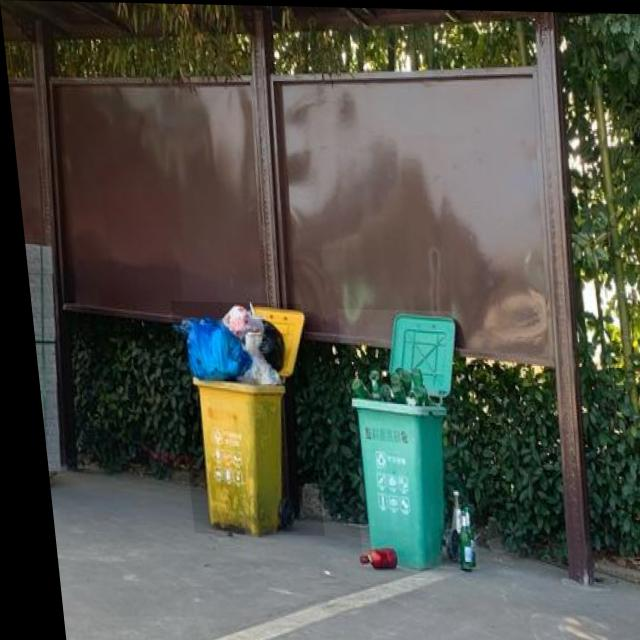overflow: (331, 307, 468, 567), (164, 301, 313, 535)
